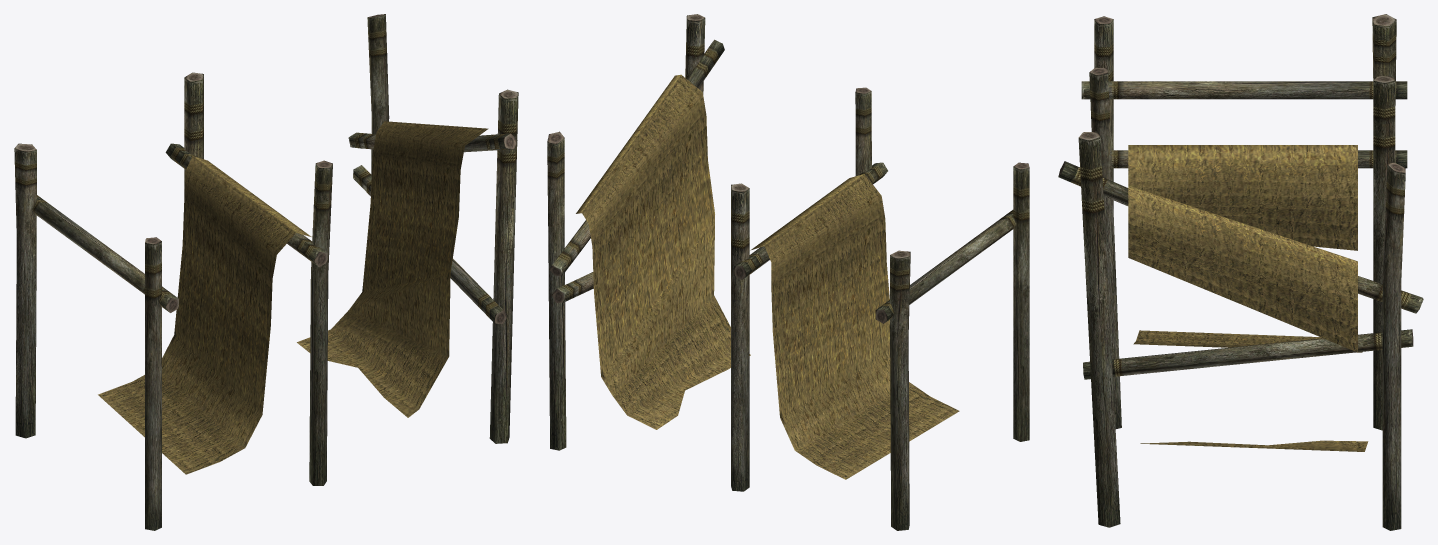
Rendered from thing_hake_02.glb.
3 renders of one model, left to right at view 1: azimuth 30°, elevation 25°; view 2: azimuth 150°, elevation 25°; view 3: azimuth 270°, elevation 25°, orthographic. The views are drawn at different scales.
Visible parts, largest first — view 1: thing_hake_02; view 2: thing_hake_02; view 3: thing_hake_02.
Part boxes in pixels (box(x1,y1,x2,y2)): thing_hake_02: box(14, 14, 518, 530); thing_hake_02: box(547, 14, 1029, 530); thing_hake_02: box(1058, 14, 1423, 530).
Size of the model in its own units: 5.39 by 4.82 by 4.12.
1 material, 1 textured.
